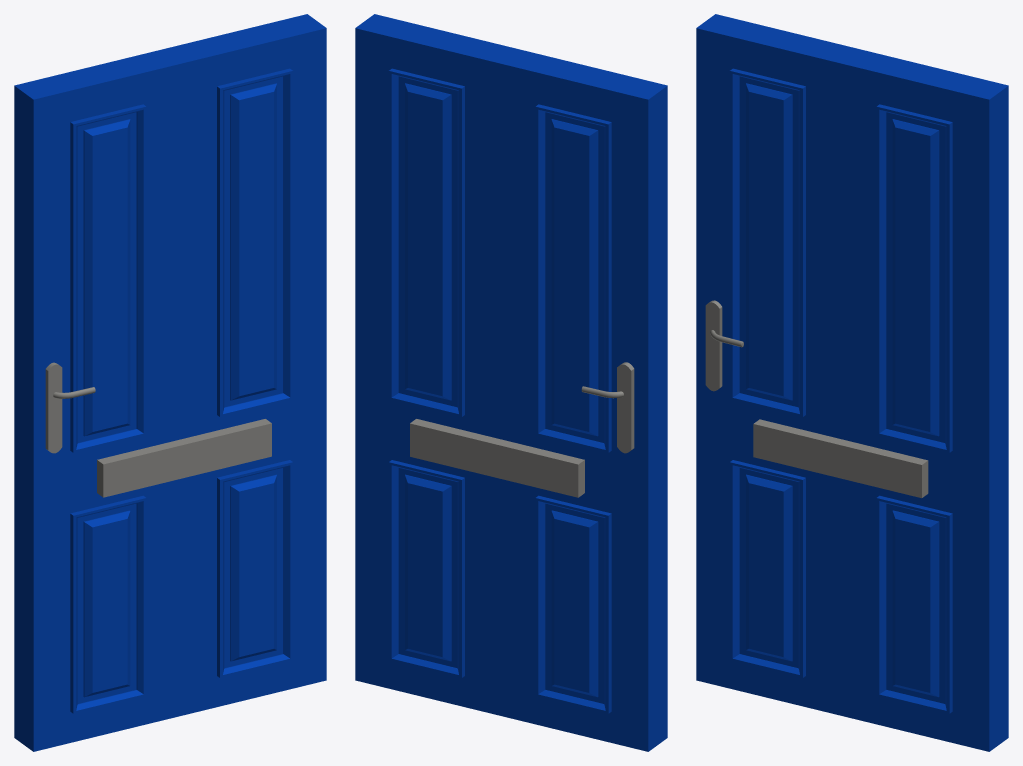
File: FrontDoor.FBX
3 views of the same model, side by side, from view 1: azimuth 30°, elevation 25°; view 2: azimuth 150°, elevation 25°; view 3: azimuth 330°, elevation 25° (orthographic).
Parts seen in each view (by area): view 1: Box001, Box004, Box002; view 2: Box001, Box004, Box003; view 3: Box001, Box004, Box002.
Part boxes in pixels (left/top/right/bottom): Box001: left=14, top=14, right=326, bottom=751; Box004: left=97, top=419, right=271, bottom=497; Box002: left=45, top=362, right=62, bottom=453; Box001: left=355, top=14, right=667, bottom=751; Box004: left=410, top=419, right=584, bottom=497; Box003: left=617, top=362, right=634, bottom=453; Box001: left=696, top=14, right=1008, bottom=751; Box004: left=753, top=419, right=928, bottom=498; Box002: left=705, top=300, right=722, bottom=391.
Size of the model in its own units: 53.63 by 114 by 11.57.
Materials: 2 (2 with a texture image).
